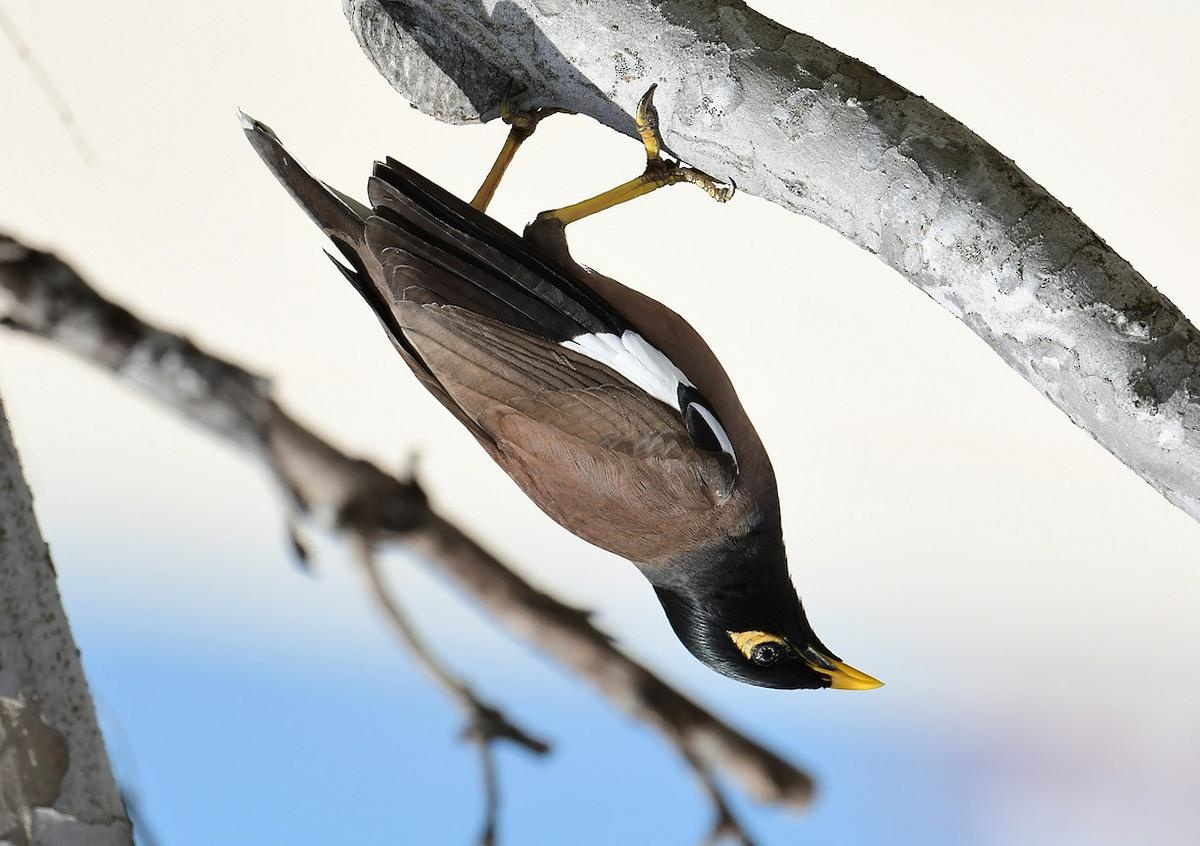myna: (234, 80, 894, 735)
